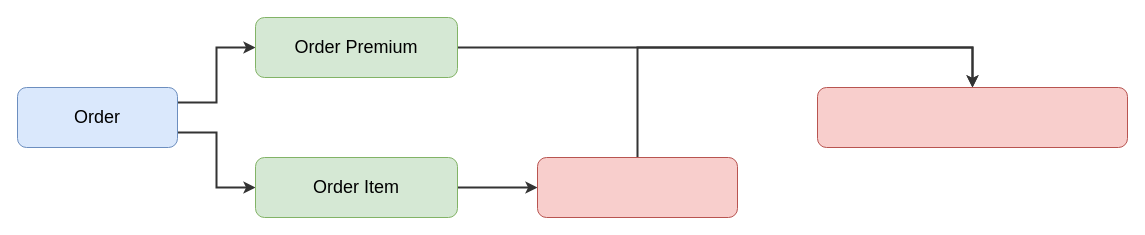
Some shapes in this 1145 by 235 pixel diagram are drawn without their labels. Each missing label, with the centre of its shape:
Average Item Premium of Order: the point at 972,117
Order Item Count: the point at 637,187
